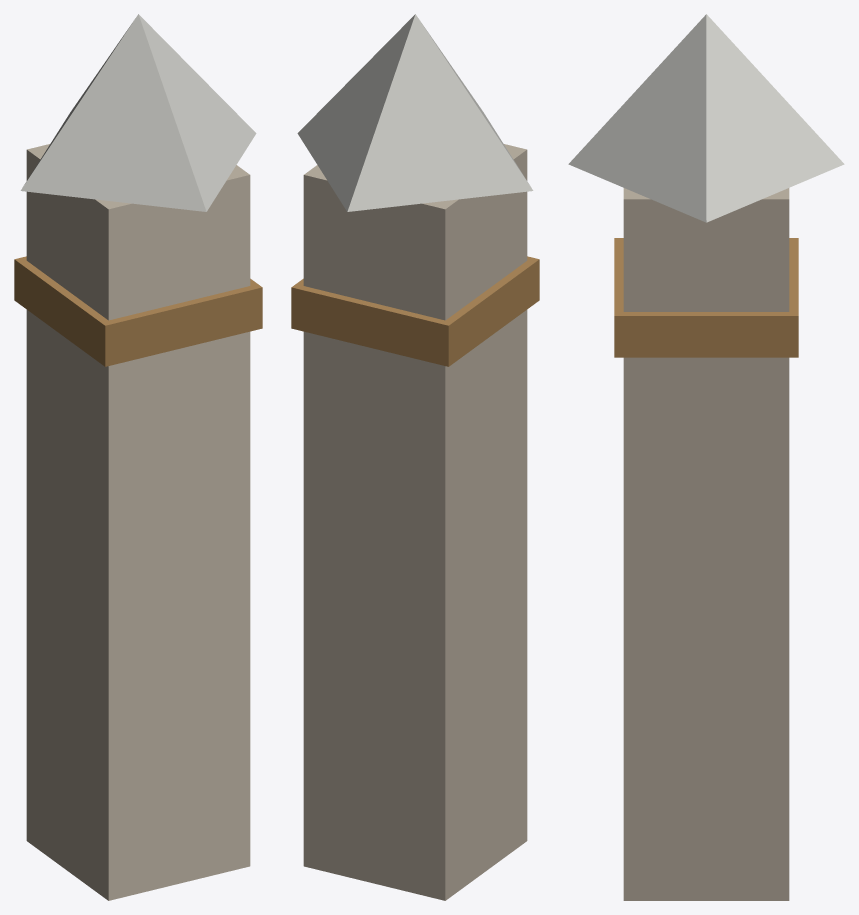
Rendered from Scatter_PicketFencePost.fbx.
3 views of the same model, side by side, from view 1: azimuth 30°, elevation 25°; view 2: azimuth 150°, elevation 25°; view 3: azimuth 270°, elevation 25° (orthographic).
Visible parts, largest first — view 1: PicketFencePost; view 2: PicketFencePost; view 3: PicketFencePost.
Part boxes in pixels (x1=…): PicketFencePost: x1=14, y1=14, x2=262, y2=900; PicketFencePost: x1=291, y1=14, x2=539, y2=900; PicketFencePost: x1=568, y1=14, x2=844, y2=900.
Bounding box in the file's own units: 1.5 × 5.1 × 1.5.
